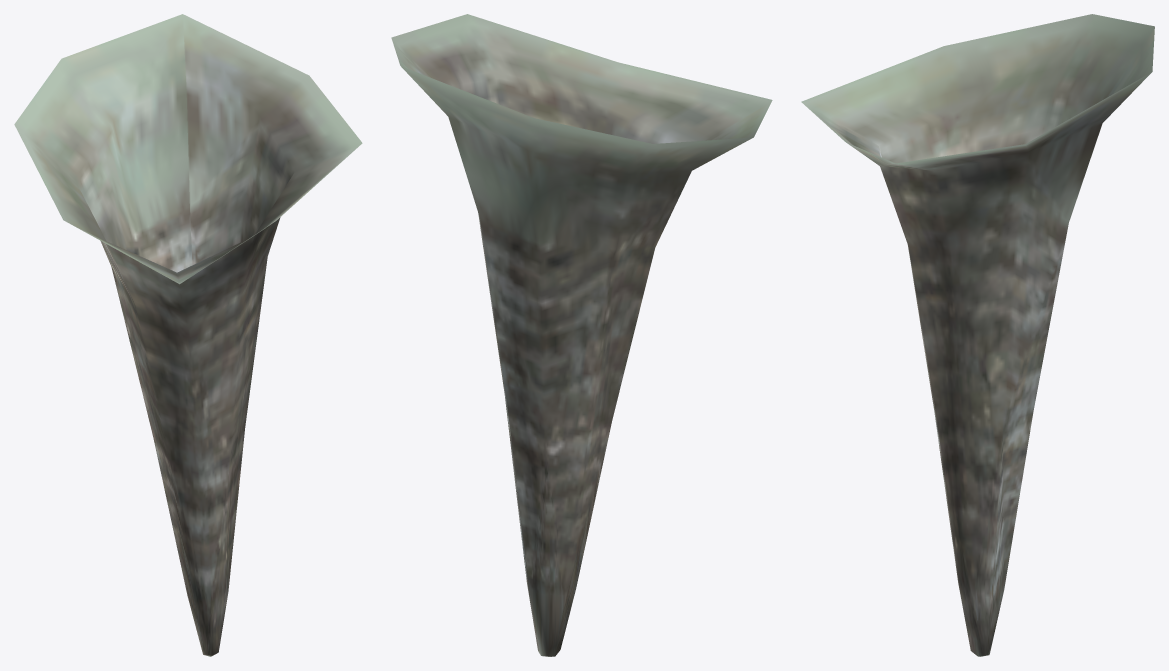
File: TROLLHOLE02_PS-UPPERSTALAG16.fbx
3 renders of one model, left to right at view 1: azimuth 30°, elevation 25°; view 2: azimuth 150°, elevation 25°; view 3: azimuth 270°, elevation 25°, orthographic. The views are drawn at different scales.
Visible parts, largest first — view 1: TROLLHOLE02_PS-UPPERSTALAG16; view 2: TROLLHOLE02_PS-UPPERSTALAG16; view 3: TROLLHOLE02_PS-UPPERSTALAG16.
Boxes of the visible parts, x1,y1,x2,y2 form: TROLLHOLE02_PS-UPPERSTALAG16: (14, 14, 362, 656); TROLLHOLE02_PS-UPPERSTALAG16: (391, 14, 772, 656); TROLLHOLE02_PS-UPPERSTALAG16: (801, 14, 1154, 656).
Bounding box in the file's own units: 11370 × 21838 × 11437.
1 material, 1 textured.
